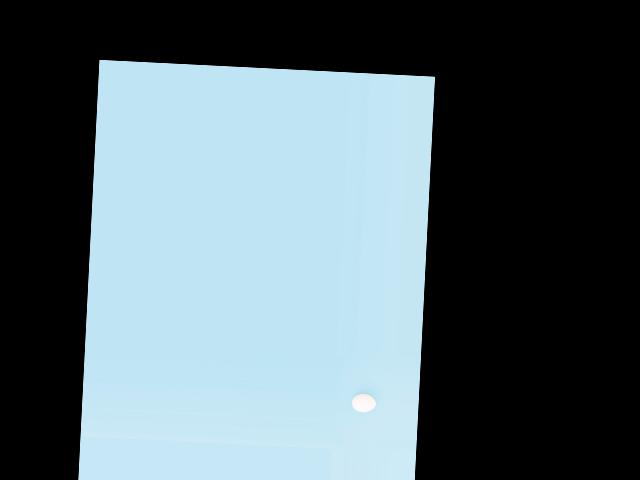egg: (351, 393, 376, 412)
